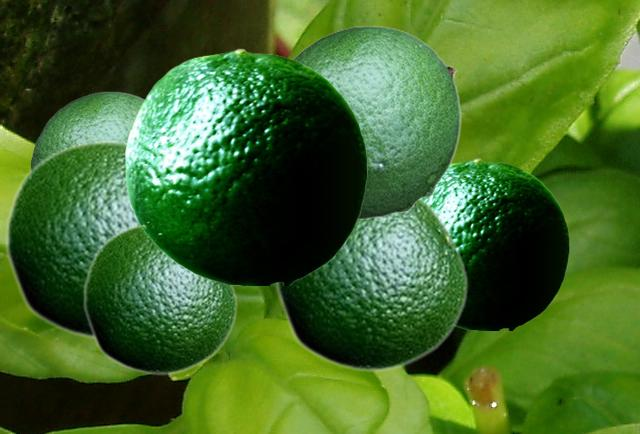calamansi: (125, 48, 366, 284), (274, 199, 468, 372), (293, 25, 460, 218), (4, 139, 137, 340), (425, 158, 568, 329), (82, 222, 237, 375), (30, 91, 144, 167)
